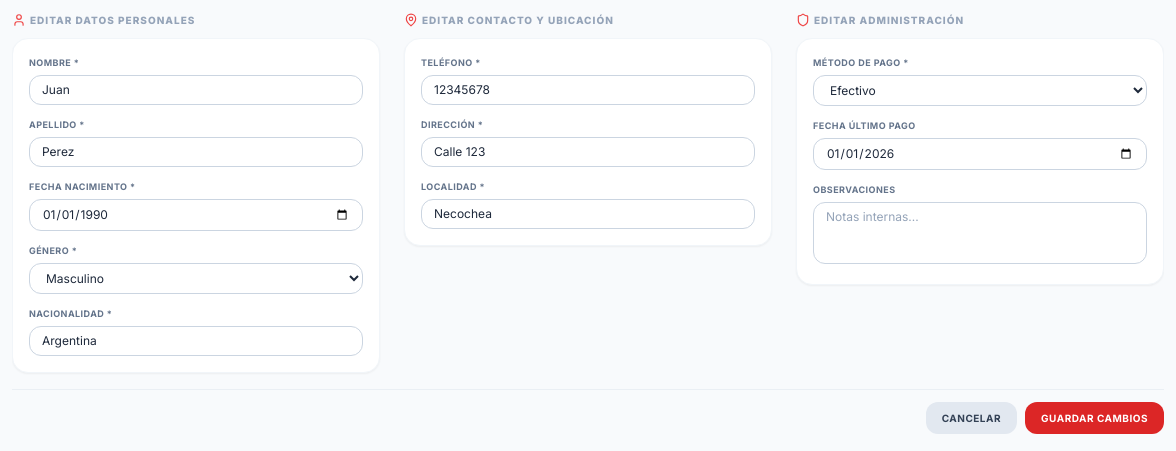
Test case: PartnerForm - UI Skills Standard › debería sanitizar etiquetas HTML en observaciones
Step 1. Type "Texto normal <script>alert(\"xss\")</script> de prueba" into the text box labelled "Observaciones" → (980,233), box [813, 202, 1147, 264]
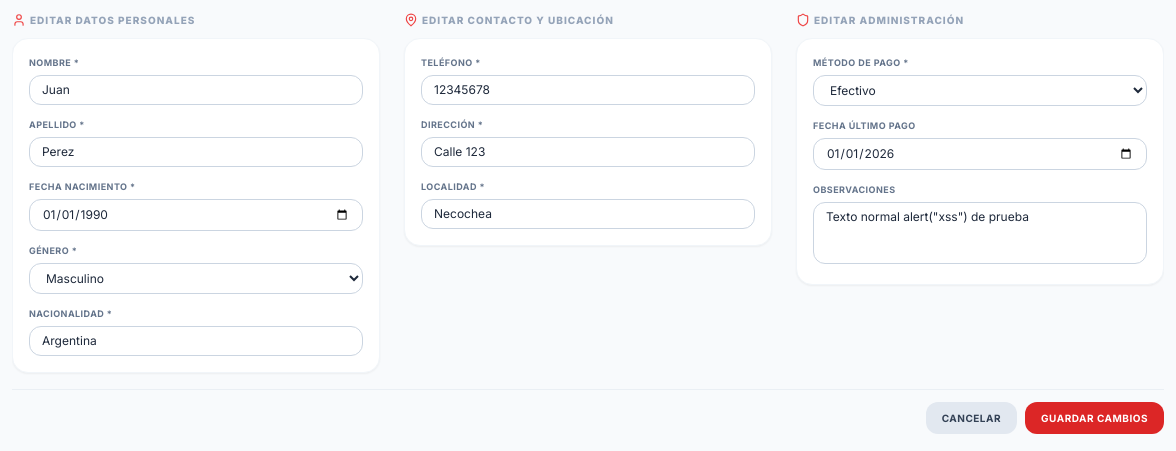
Now the text box labelled "Observaciones" holds "Texto normal alert(\"xss\") de prueba", box [813, 202, 1147, 264]
